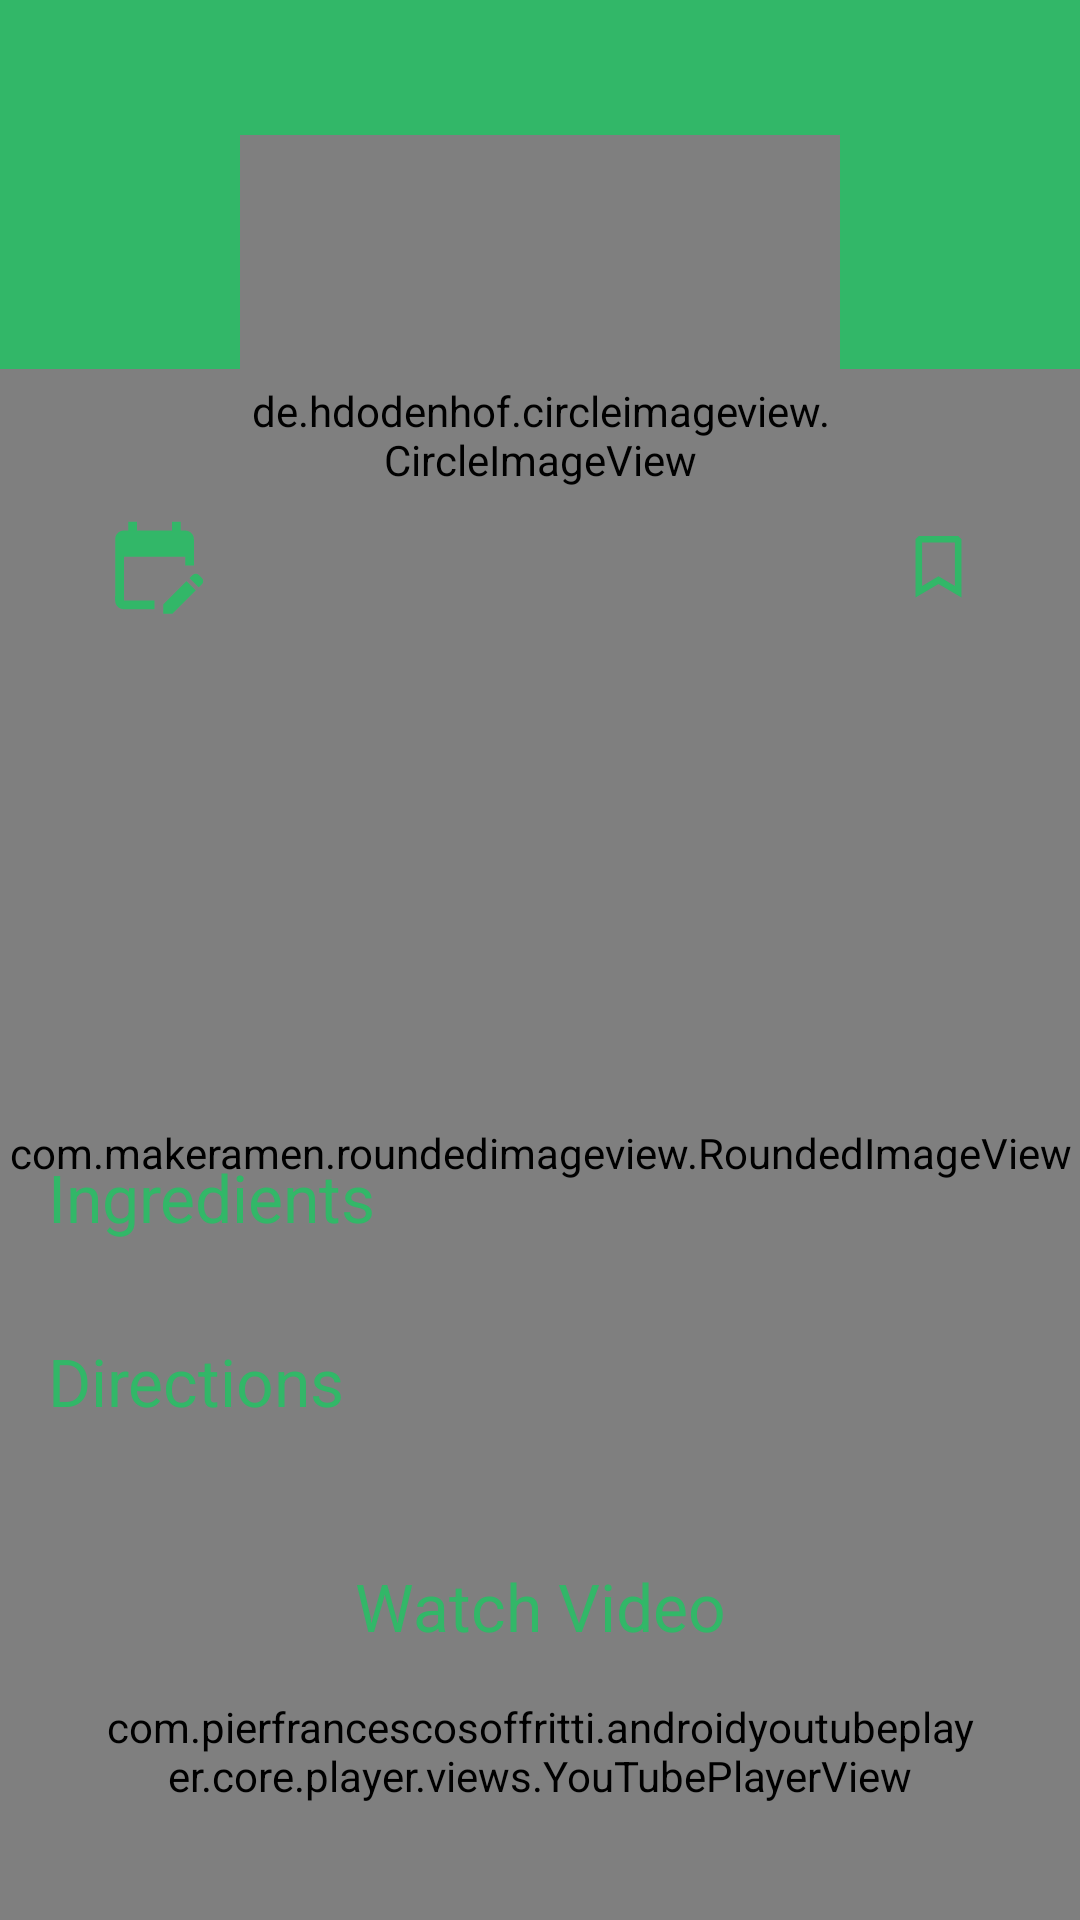

Icon click points for this 1080 × 1920 phone screenshot, format (x=x, y=y):
edit calendar: (x=159, y=568)
save: (x=938, y=566)
